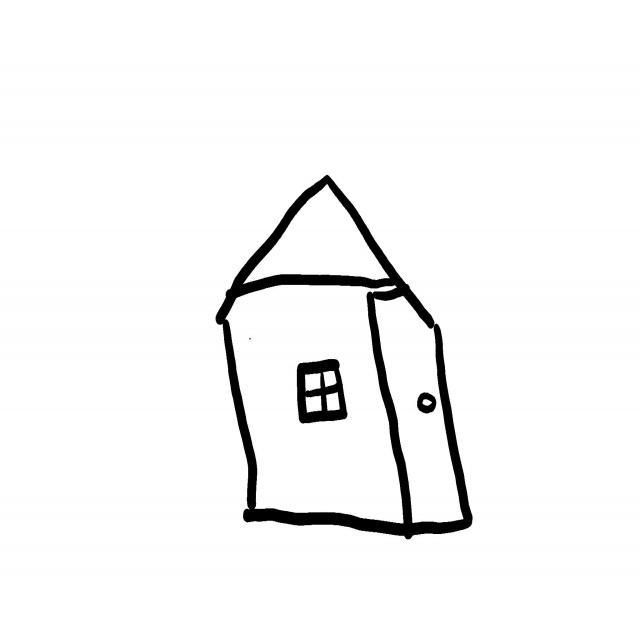door: (373, 289, 469, 526)
house: (216, 177, 473, 539)
roof: (235, 180, 397, 288)
wall: (225, 282, 472, 532)
window: (298, 360, 346, 424)
